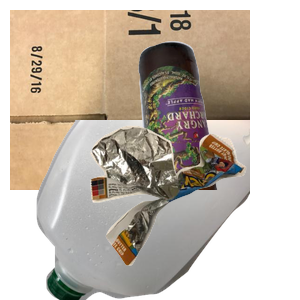cardboard: (10, 10, 250, 190)
glass: (136, 39, 300, 219)
plastic: (34, 120, 274, 300)
trash: (88, 123, 300, 300)
